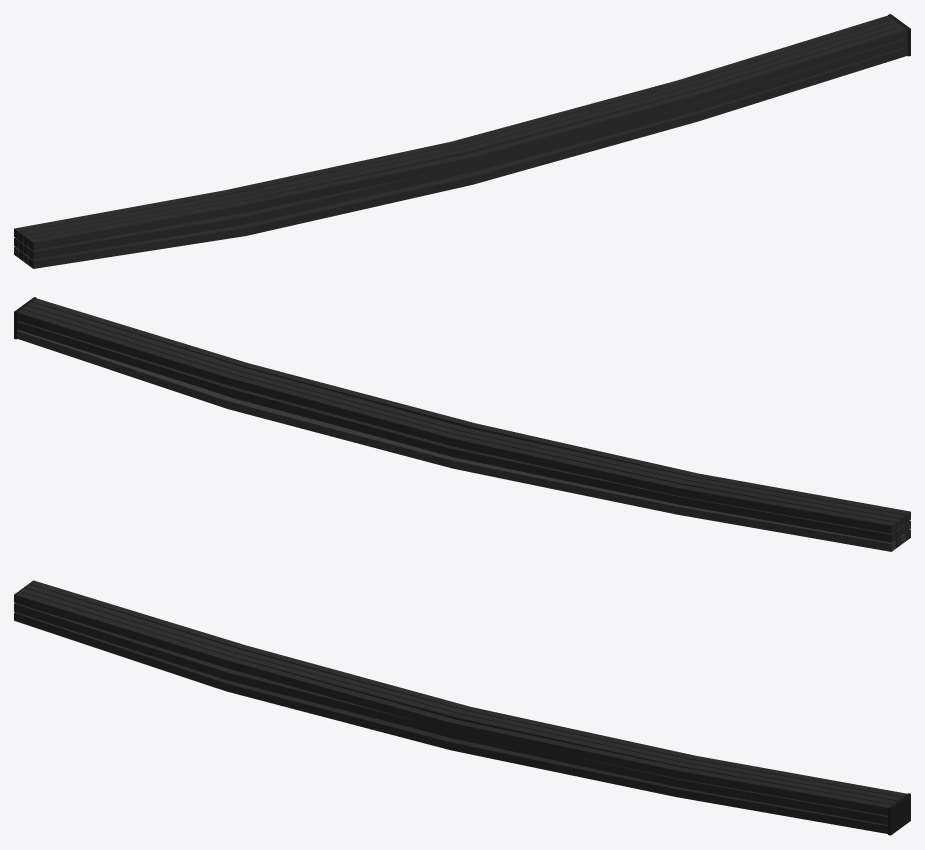
The model's file is WallDecor_07.fbx.
3 renders of one model, top to bottom at view 1: azimuth 30°, elevation 25°; view 2: azimuth 150°, elevation 25°; view 3: azimuth 330°, elevation 25°, orthographic.
Visible parts, largest first — view 1: WallDecor_07; view 2: WallDecor_07; view 3: WallDecor_07.
Part boxes in pixels (left/top/right/bottom): WallDecor_07: left=14, top=14, right=910, bottom=268; WallDecor_07: left=14, top=297, right=910, bottom=551; WallDecor_07: left=14, top=580, right=910, bottom=835.
Size of the model in its own units: 250 by 13.6 by 11.34.
